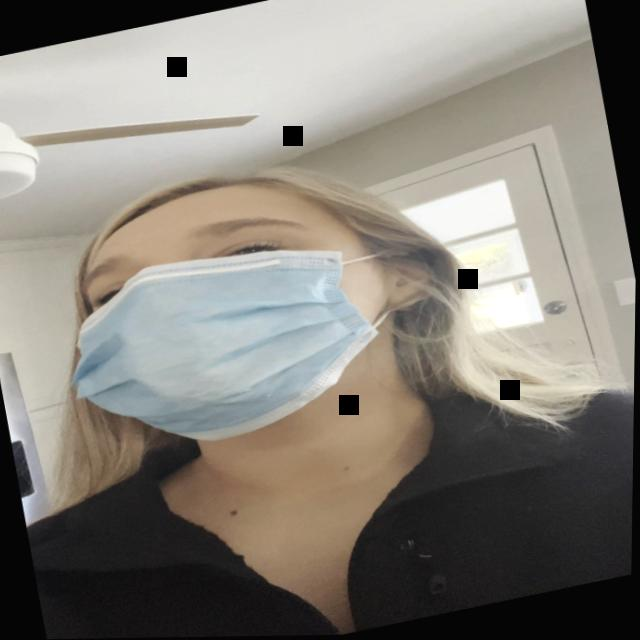Mask: (26, 134, 500, 492)
